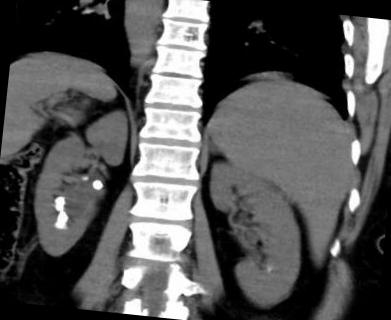Tas_Var: (51, 210, 71, 230), (50, 194, 66, 212), (89, 178, 104, 192), (78, 172, 90, 182), (265, 266, 271, 274)
